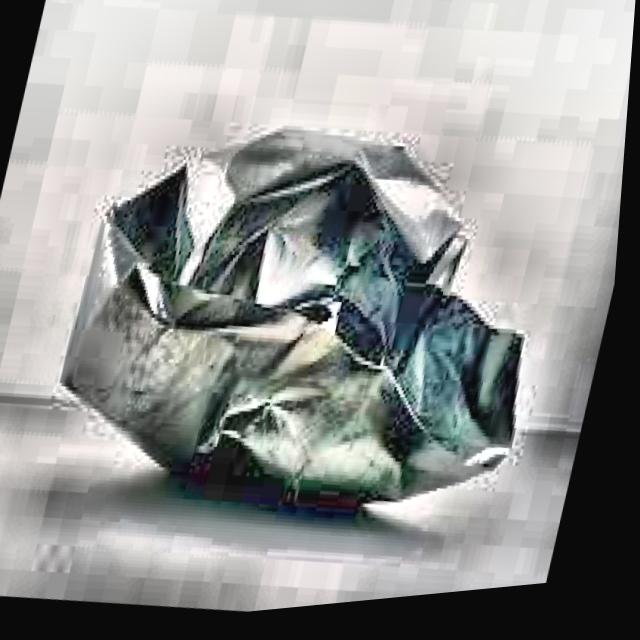Foil: (13, 48, 625, 604)
